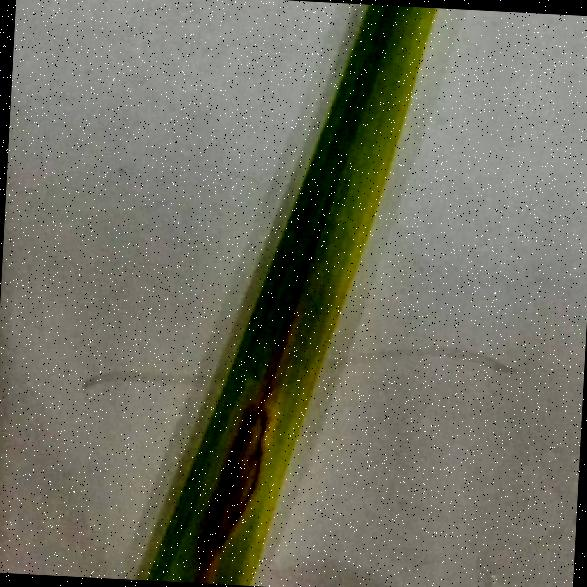Leaf_smut: (168, 303, 304, 585)
